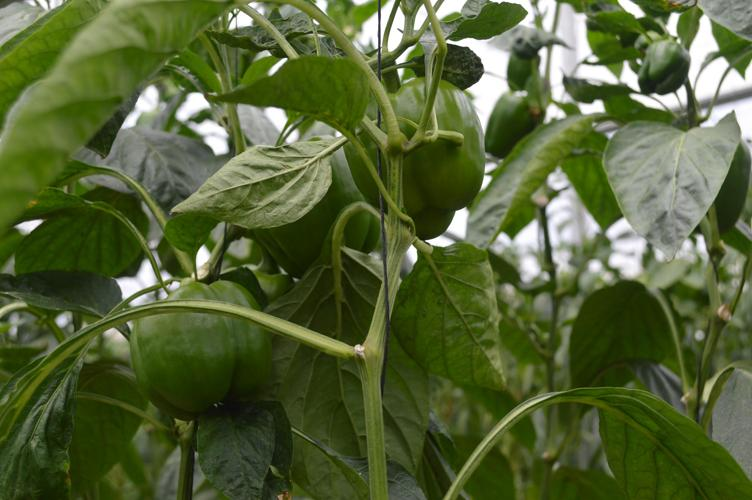BellPepper: (344, 77, 484, 235), (126, 282, 280, 406), (252, 138, 376, 264), (634, 37, 691, 104), (477, 94, 532, 154)
